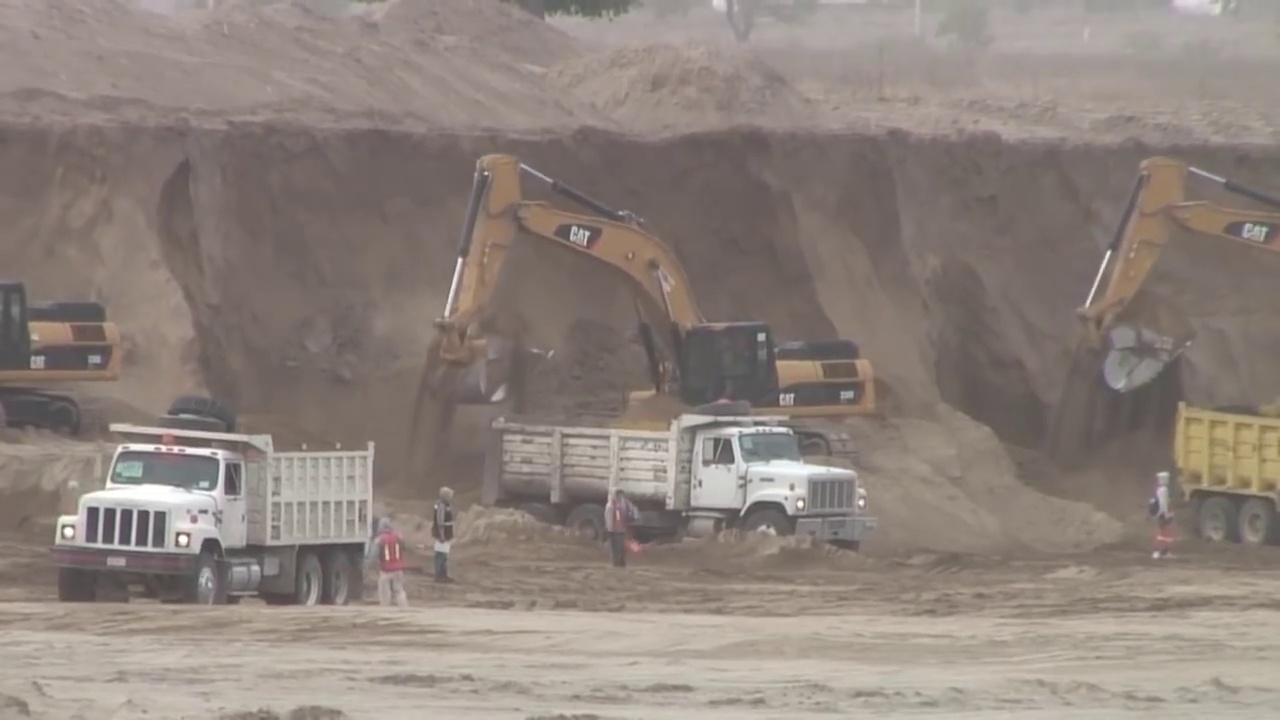excavator: (430, 150, 879, 469), (1081, 155, 1280, 389), (1, 276, 121, 439)
person: (374, 517, 407, 614), (1146, 468, 1178, 560), (607, 487, 635, 570), (433, 486, 454, 585)
truck: (54, 419, 373, 616), (492, 414, 877, 556), (1177, 398, 1280, 543)
